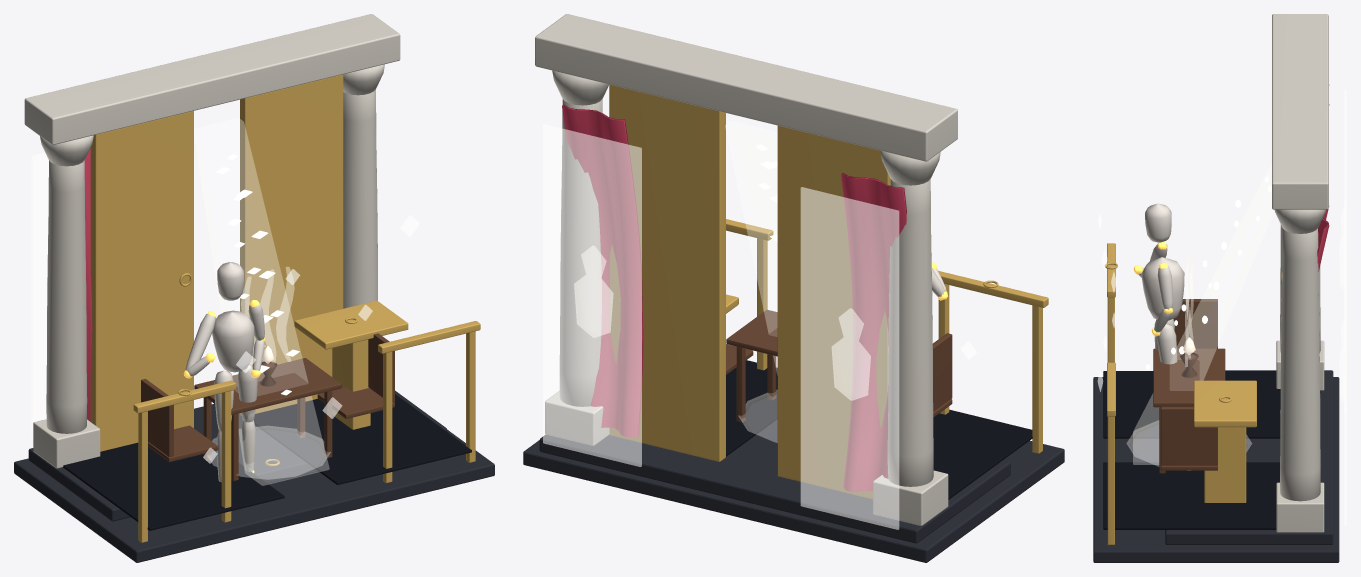
File: webtoon-vrm-pose-railing-lean-110cm-v28.glb
The picture shows the model from 3 angles, left to right: view 1: azimuth 30°, elevation 25°; view 2: azimuth 150°, elevation 25°; view 3: azimuth 270°, elevation 25°; orthographic projection. The views are drawn at different scales.
Visible parts, largest first — view 1: Articulated_V28Pose1_Railing_DoorsAndIkRig, V28Pose1_Railing_PortalColonnade, ShadowDrift_V28Pose1_Railing_UmbraMask, Volumetric_V28Pose1_Railing_GodRaySlit, V28Pose1_Railing_DatumDeck, Aftermath_V28Pose1_Railing_DatumProps, VrmMannequin_V28Pose1_Railing_Humanoid8Head, HalfMirror_V28Pose1_Railing_FresnelReflection, AftermathDust_V28Pose1_Railing_PlumeLobes, ThermalHaze_V28Pose1_Railing_ConvectiveRibbons, WindDrape_V28Pose1_Railing_CatenaryPair, Atmospheric_V28Pose1_Railing_FgBokehLayer (+1 smaller); view 2: Articulated_V28Pose1_Railing_DoorsAndIkRig, HalfMirror_V28Pose1_Railing_FresnelReflection, V28Pose1_Railing_PortalColonnade, V28Pose1_Railing_DatumDeck, WindDrape_V28Pose1_Railing_CatenaryPair, ShadowDrift_V28Pose1_Railing_UmbraMask, Volumetric_V28Pose1_Railing_GodRaySlit, Aftermath_V28Pose1_Railing_DatumProps, AftermathDust_V28Pose1_Railing_PlumeLobes; view 3: V28Pose1_Railing_PortalColonnade, V28Pose1_Railing_DatumDeck, ShadowDrift_V28Pose1_Railing_UmbraMask, Aftermath_V28Pose1_Railing_DatumProps, Articulated_V28Pose1_Railing_DoorsAndIkRig, Volumetric_V28Pose1_Railing_GodRaySlit, VrmMannequin_V28Pose1_Railing_Humanoid8Head, HalfMirror_V28Pose1_Railing_FresnelReflection, AftermathDust_V28Pose1_Railing_PlumeLobes, ThermalHaze_V28Pose1_Railing_ConvectiveRibbons, Atmospheric_V28Pose1_Railing_MidMotes, WindDrape_V28Pose1_Railing_CatenaryPair (+1 smaller).
Boxes of the visible parts, bbox=[...] form: Articulated_V28Pose1_Railing_DoorsAndIkRig: bbox=[90, 74, 480, 542]; V28Pose1_Railing_PortalColonnade: bbox=[24, 14, 400, 468]; ShadowDrift_V28Pose1_Railing_UmbraMask: bbox=[63, 394, 471, 530]; Volumetric_V28Pose1_Railing_GodRaySlit: bbox=[194, 118, 329, 485]; V28Pose1_Railing_DatumDeck: bbox=[14, 390, 494, 562]; Aftermath_V28Pose1_Railing_DatumProps: bbox=[141, 333, 394, 480]; VrmMannequin_V28Pose1_Railing_Humanoid8Head: bbox=[185, 262, 264, 482]; HalfMirror_V28Pose1_Railing_FresnelReflection: bbox=[31, 152, 48, 438]; AftermathDust_V28Pose1_Railing_PlumeLobes: bbox=[212, 426, 330, 479]; ThermalHaze_V28Pose1_Railing_ConvectiveRibbons: bbox=[241, 267, 294, 362]; WindDrape_V28Pose1_Railing_CatenaryPair: bbox=[84, 148, 92, 421]; Atmospheric_V28Pose1_Railing_FgBokehLayer: bbox=[203, 215, 419, 463]; Articulated_V28Pose1_Railing_DoorsAndIkRig: bbox=[609, 84, 1048, 499]; HalfMirror_V28Pose1_Railing_FresnelReflection: bbox=[543, 124, 899, 529]; V28Pose1_Railing_PortalColonnade: bbox=[535, 14, 957, 525]; V28Pose1_Railing_DatumDeck: bbox=[523, 419, 1064, 562]; WindDrape_V28Pose1_Railing_CatenaryPair: bbox=[562, 104, 906, 492]; ShadowDrift_V28Pose1_Railing_UmbraMask: bbox=[726, 360, 1032, 499]; Volumetric_V28Pose1_Railing_GodRaySlit: bbox=[725, 121, 777, 374]; Aftermath_V28Pose1_Railing_DatumProps: bbox=[726, 309, 952, 422]; AftermathDust_V28Pose1_Railing_PlumeLobes: bbox=[739, 390, 777, 442]; V28Pose1_Railing_PortalColonnade: bbox=[1272, 14, 1328, 532]; V28Pose1_Railing_DatumDeck: bbox=[1093, 370, 1339, 562]; ShadowDrift_V28Pose1_Railing_UmbraMask: bbox=[1103, 371, 1280, 529]; Aftermath_V28Pose1_Railing_DatumProps: bbox=[1153, 299, 1225, 473]; Articulated_V28Pose1_Railing_DoorsAndIkRig: bbox=[1105, 243, 1282, 544]; Volumetric_V28Pose1_Railing_GodRaySlit: bbox=[1133, 163, 1274, 464]; VrmMannequin_V28Pose1_Railing_Humanoid8Head: bbox=[1138, 203, 1184, 407]; HalfMirror_V28Pose1_Railing_FresnelReflection: bbox=[1339, 89, 1346, 525]; AftermathDust_V28Pose1_Railing_PlumeLobes: bbox=[1127, 420, 1251, 466]; ThermalHaze_V28Pose1_Railing_ConvectiveRibbons: bbox=[1185, 255, 1193, 366]; Atmospheric_V28Pose1_Railing_MidMotes: bbox=[1146, 176, 1271, 369]; WindDrape_V28Pose1_Railing_CatenaryPair: bbox=[1317, 85, 1329, 271].
Size of the model in its own units: 2.76 by 2.78 by 1.69.
